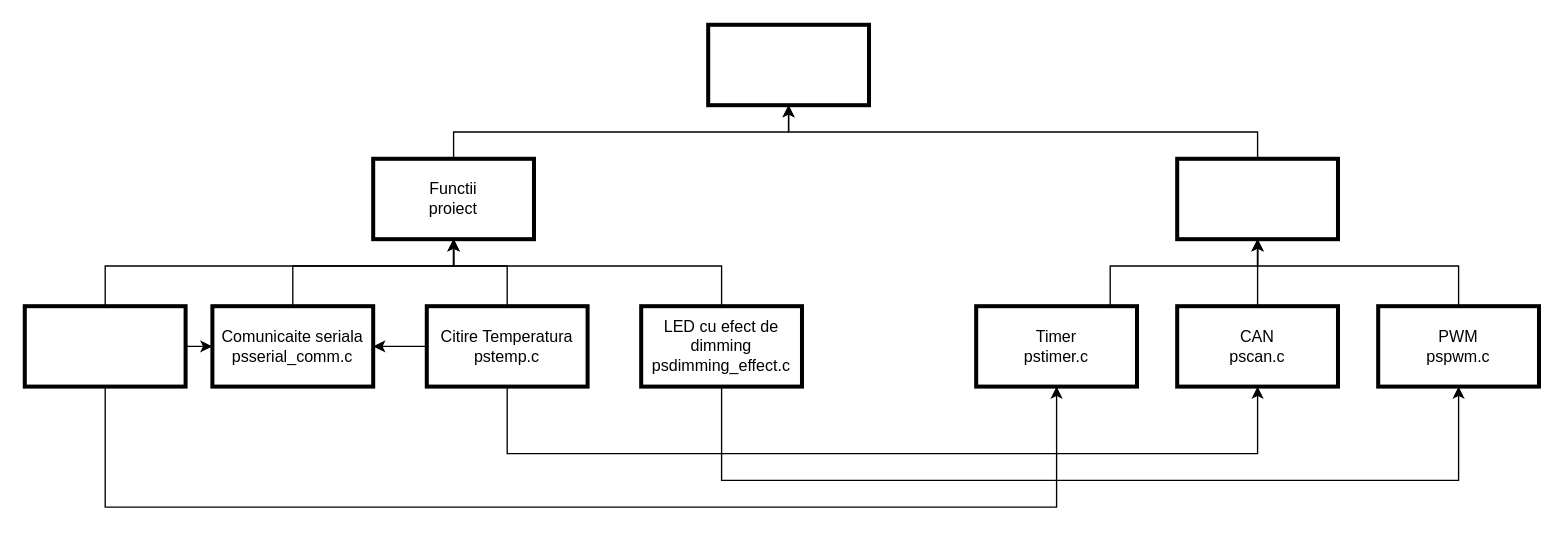
The diagram is 1564 pixels wide and 541 high, and some of its shapes have lost their labels. The centre of each missing label's shape, as x and y in pixels:
"Aprindere LED psled.c" goes at (104,346).
"Main" goes at (788,64).
"Setup" goes at (1257,198).
